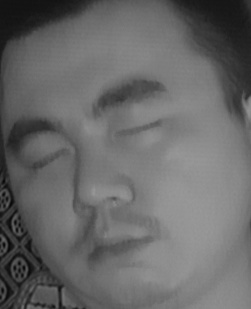blink: (113, 113, 161, 151), (26, 141, 69, 176)
mouth: (76, 216, 159, 270)
